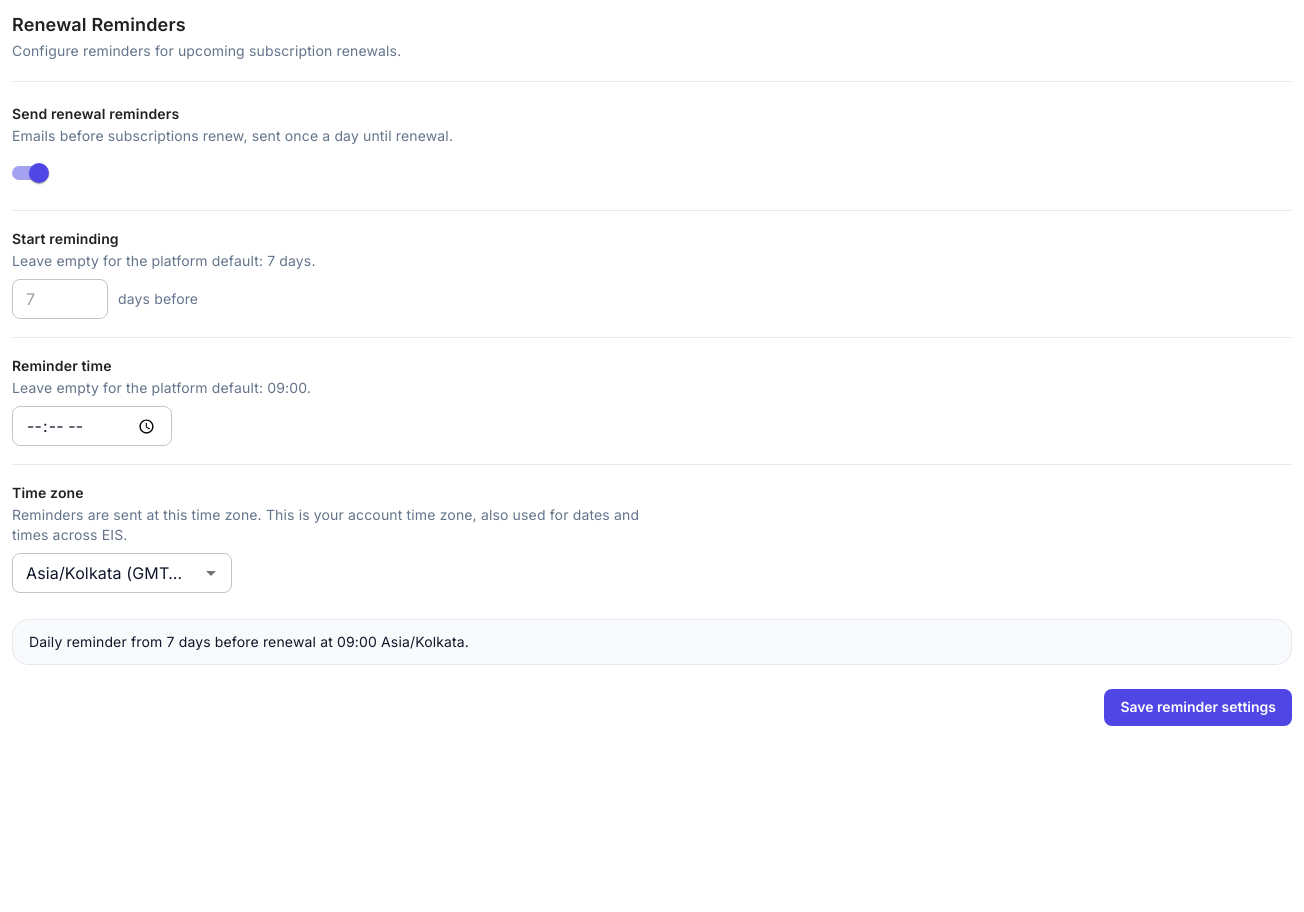
RenewalRemindersCard › lets the user pick any time zone for reminders and updates the summary
Step 1. Replace the text in the dropdown labelled "Time zone" with "new york" → [106, 573], box [18,559,193,587]
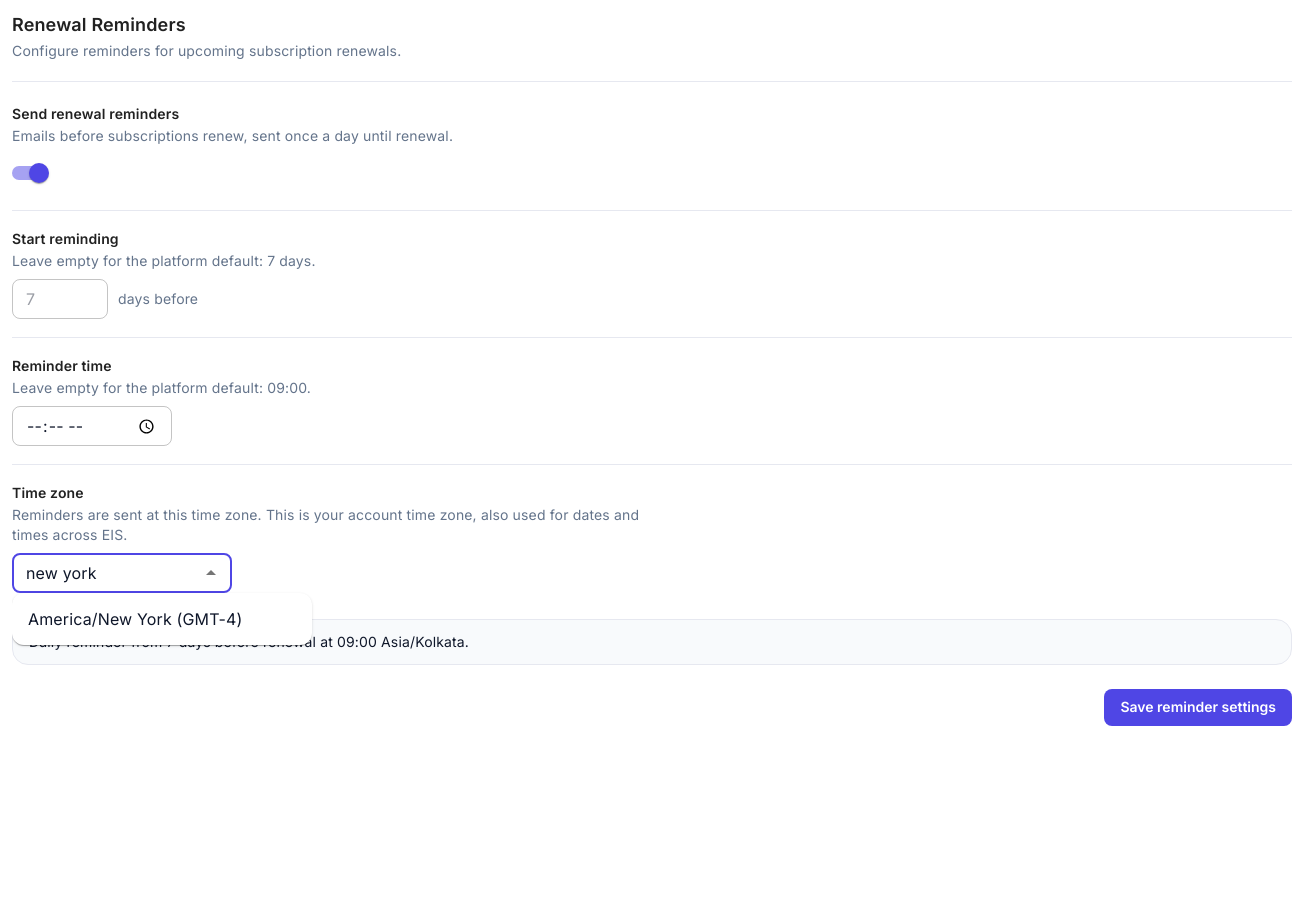
Step 2. Click the option "America/New York (GMT-4)" → [135, 619], box [28,609,242,629]
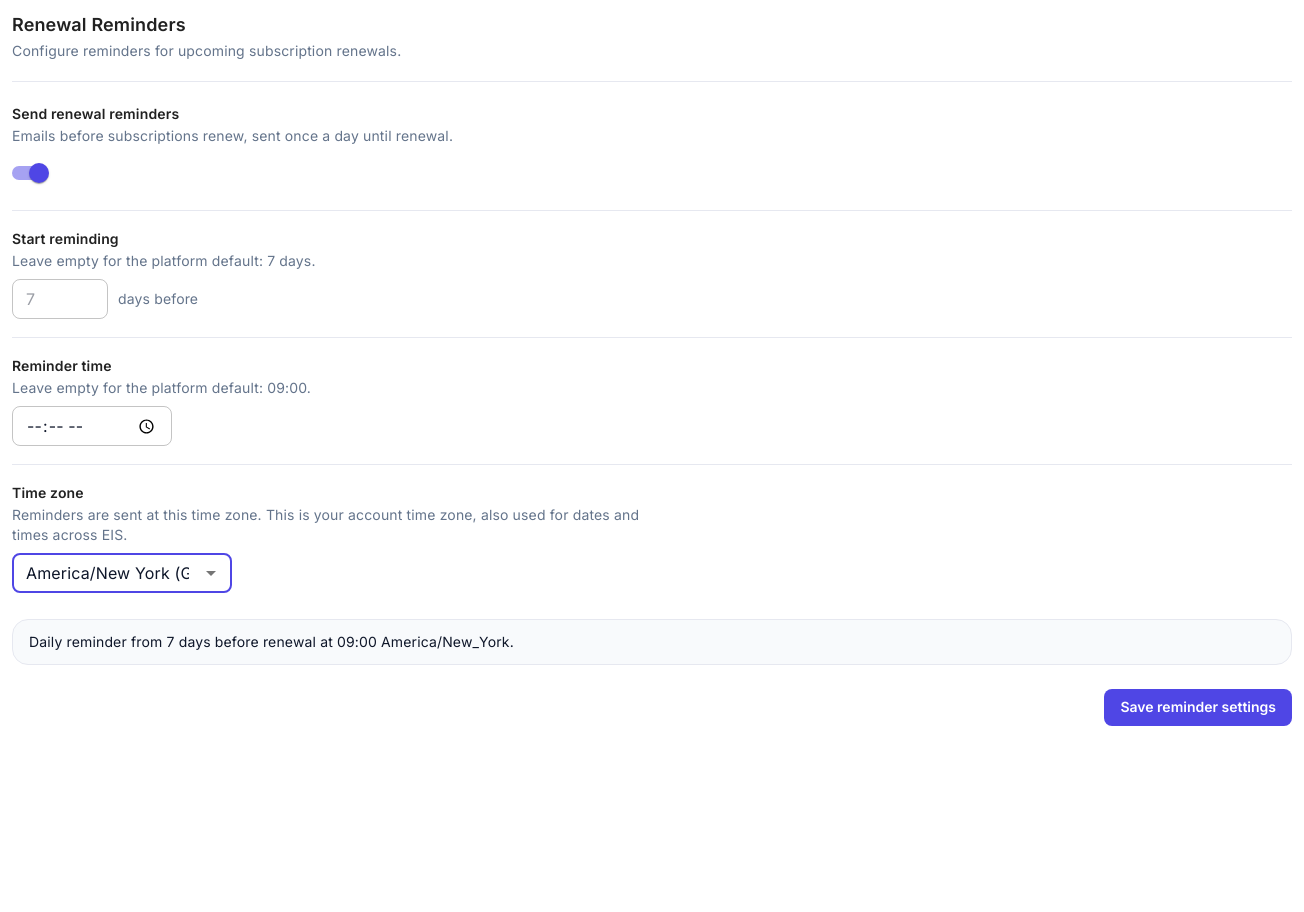
Expected: the message reads "Daily reminder from 7 days before renewal at 09:00 America/New_York.", [29,633,514,650]
